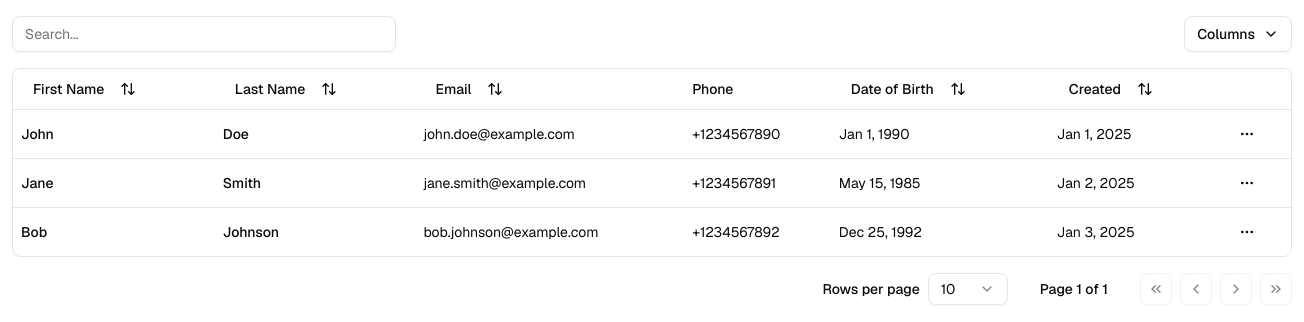
Test: PatientTable › Filtering Functionality › clears filter when search is cleared
# Filter by john
Type "john" into the field with placeholder "Search...". click: [204, 34]
box: [12,16,396,52]
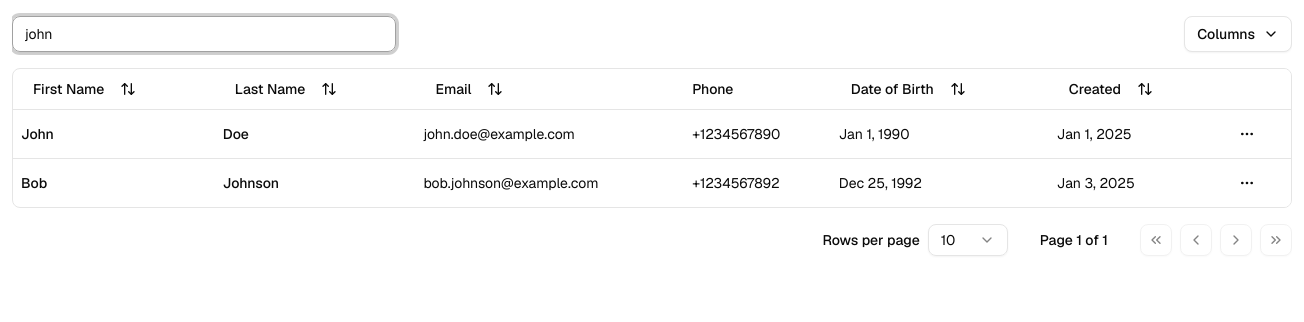
Expected: the text "John" is shown, [21,124,54,142]
Expected: the text "Jane" is gone
# Clear search
Clear the field with placeholder "Search...". click: [204, 34]
box: [12,16,396,52]
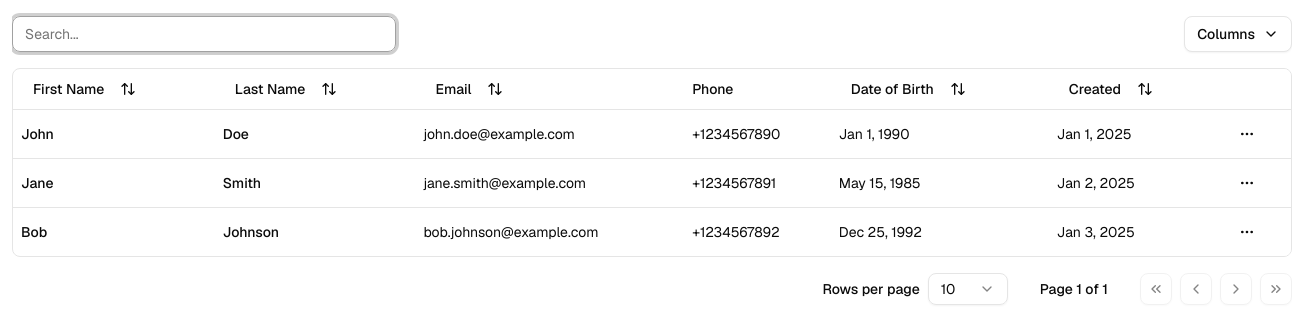
Expected: the text "John" is shown, [21,124,54,142]
Expected: the text "Jane" is shown, [21,174,54,192]
